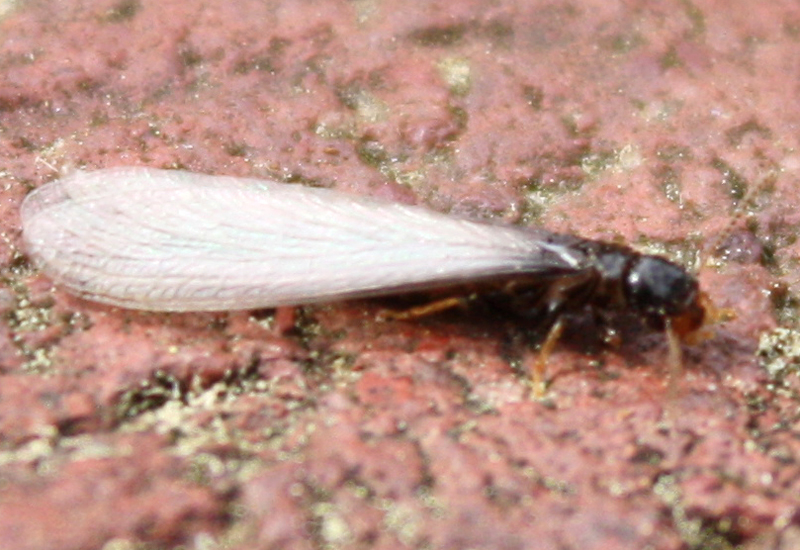flying termite: (10, 145, 732, 424)
